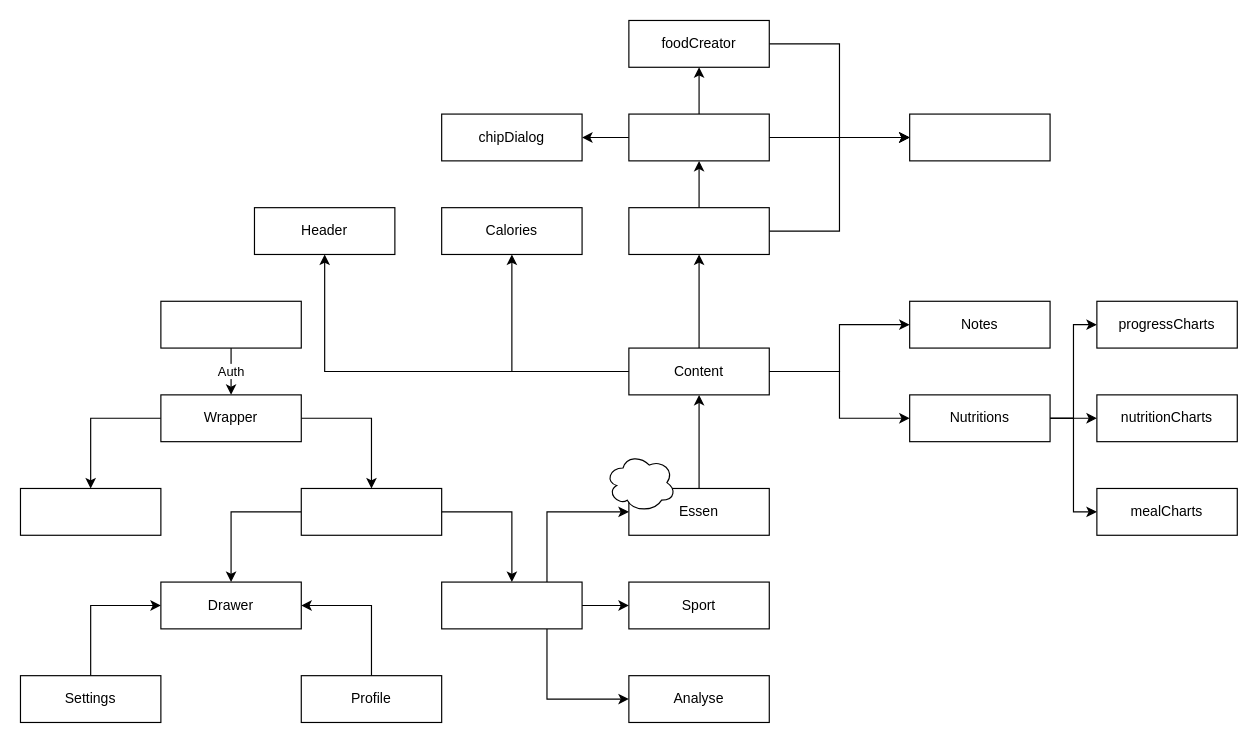
The diagram is 1258 pixels wide and 743 high, and some of its shapes have lost their labels. Here are the shapes that lost their labels. From the top down, the centre of each, then its label:
At (x=698, y=137): "foodAdder".
At (x=979, y=137): "Details".
At (x=698, y=230): "Meal".
At (x=230, y=324): "Main".
At (x=640, y=482): "Food Service".
At (x=90, y=511): "Login".
At (x=371, y=511): "Home".
At (x=511, y=605): "BNB".
